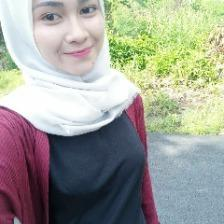Non Syar-i: (0, 0, 140, 139)
